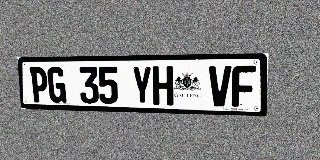3: (79, 67, 99, 104)
5: (98, 67, 118, 104)
F: (231, 65, 256, 107)
G: (47, 67, 66, 103)
H: (152, 66, 173, 105)
P: (29, 67, 49, 103)
V: (208, 66, 231, 107)
Y: (131, 66, 152, 105)
